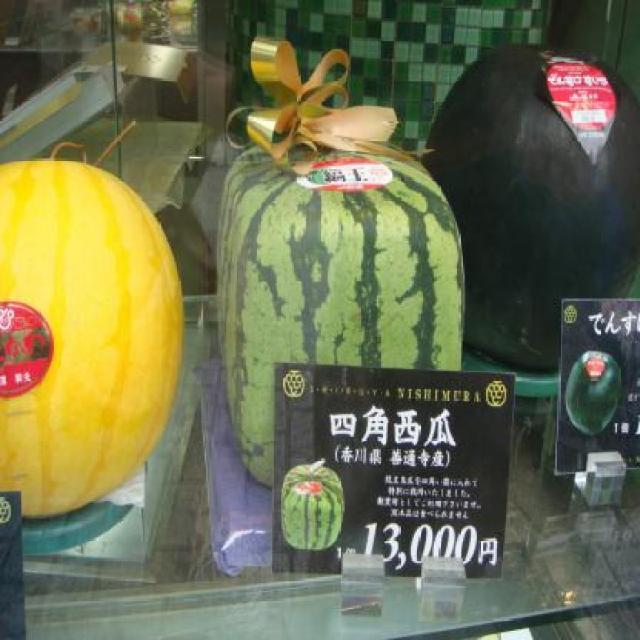Watermelon: (216, 145, 467, 487), (1, 120, 184, 523), (424, 49, 638, 376), (280, 467, 348, 551), (565, 352, 621, 438)
